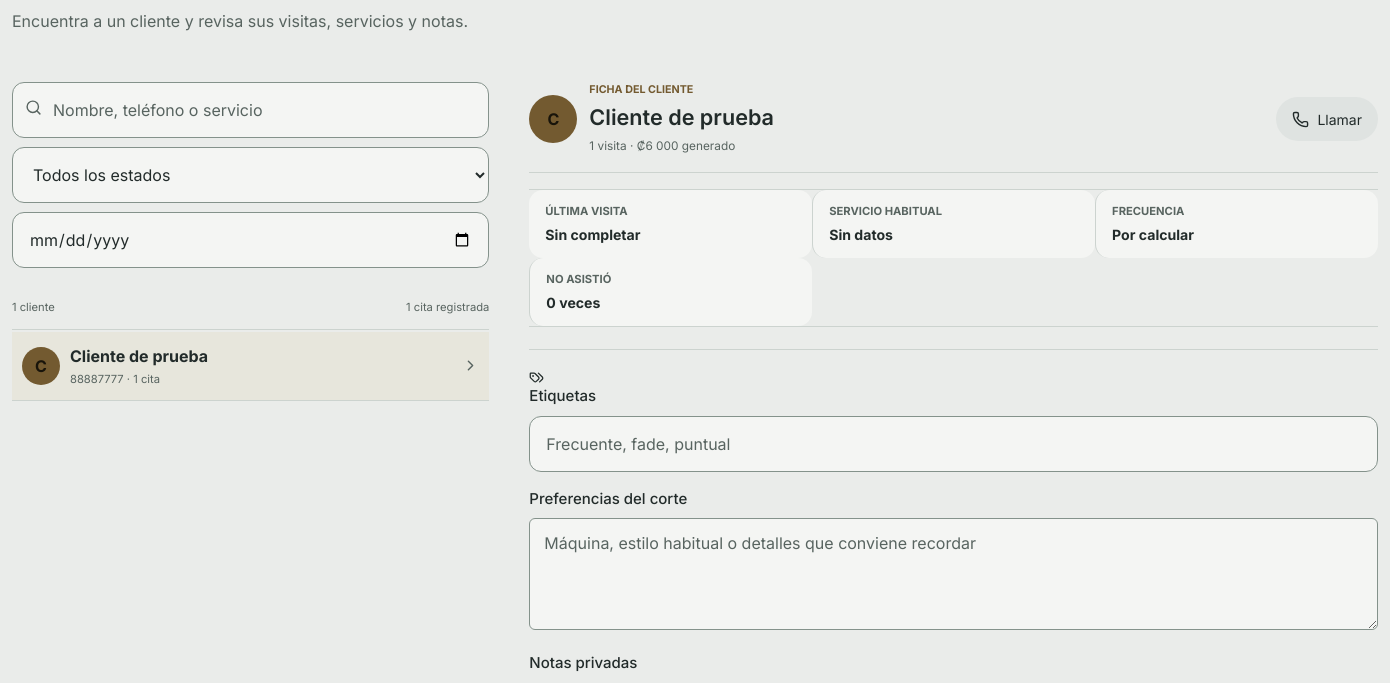
Test: mantiene los datos y muestra el error de guardado en la ficha
Type "Corte clásico" into the text box labelled "Preferencias del corte".
click(954, 574); type("Corte clásico")  # box [529,518,1378,630]
(page scrolled)
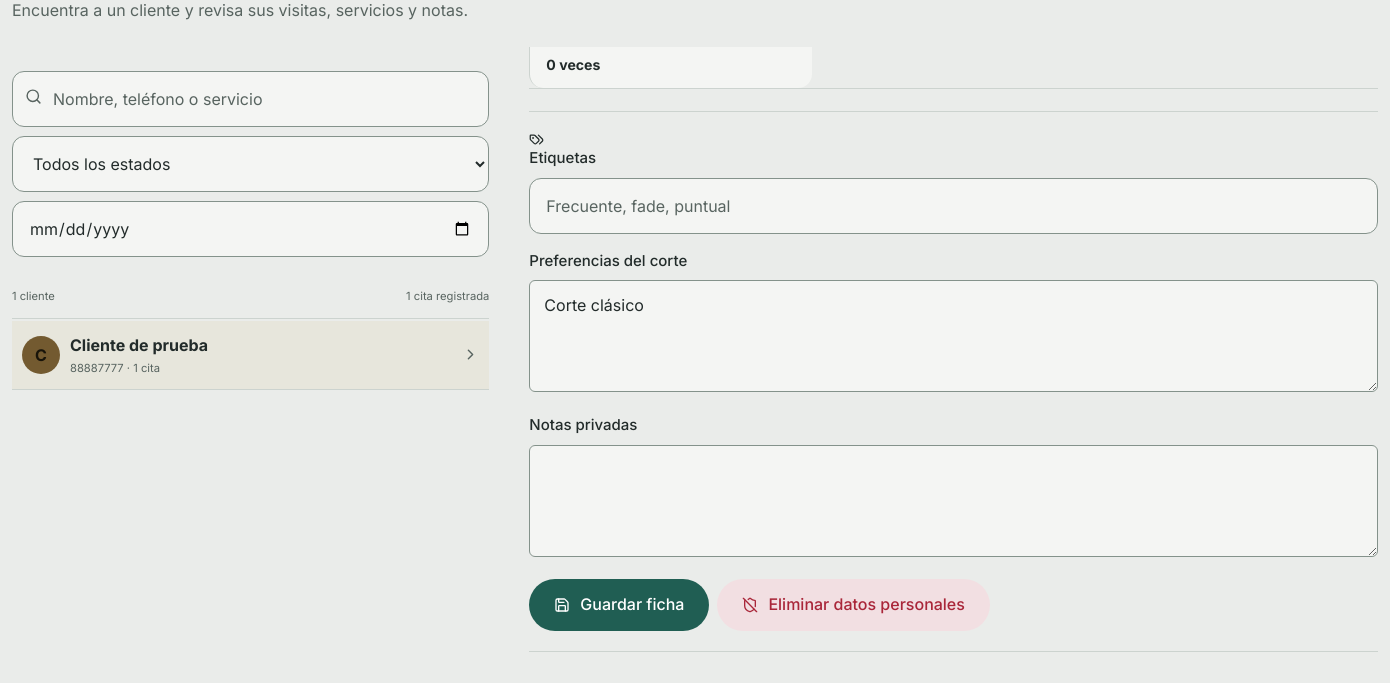
Click the button "Guardar ficha".
click(619, 604)  # box [529,578,710,630]
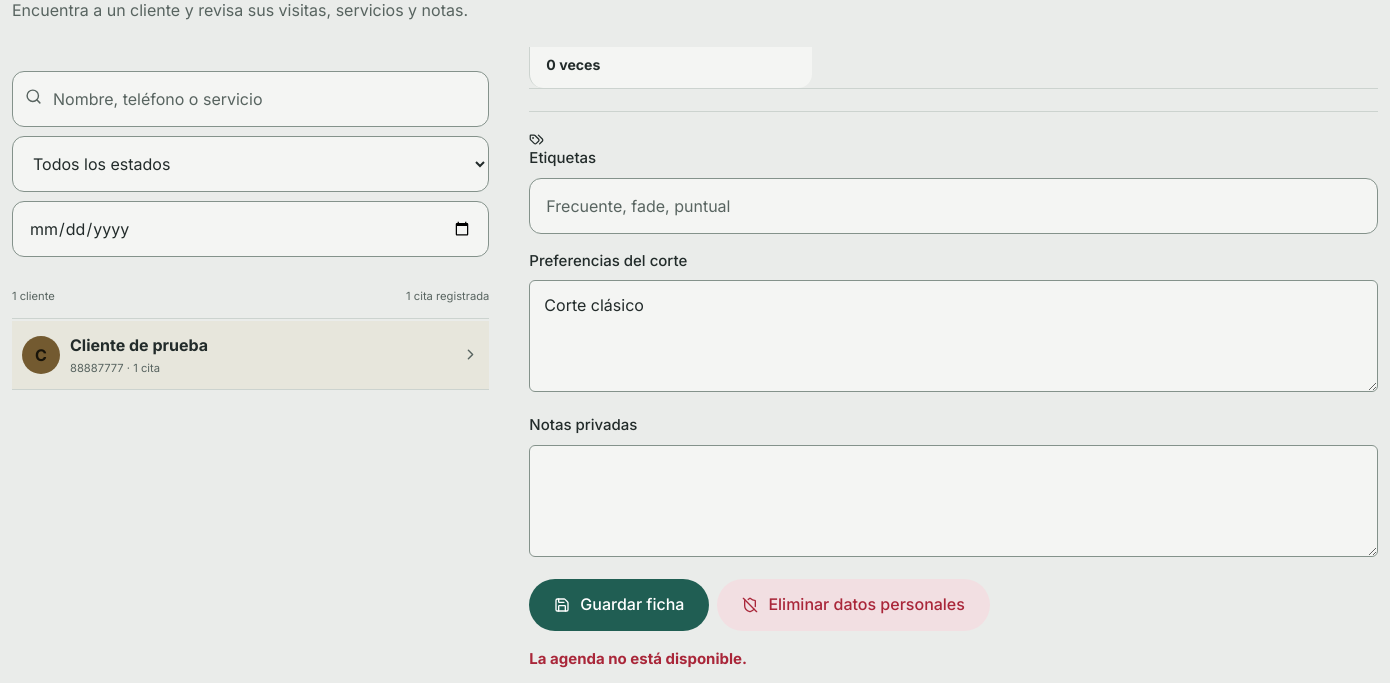
Result: the message reads "La agenda no está disponible." at [529,648,747,668]
